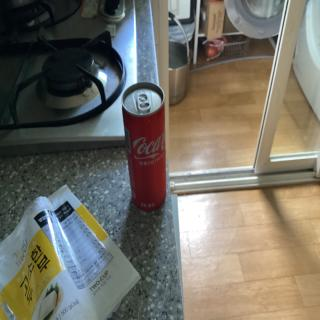cocacola: (122, 78, 170, 215)
